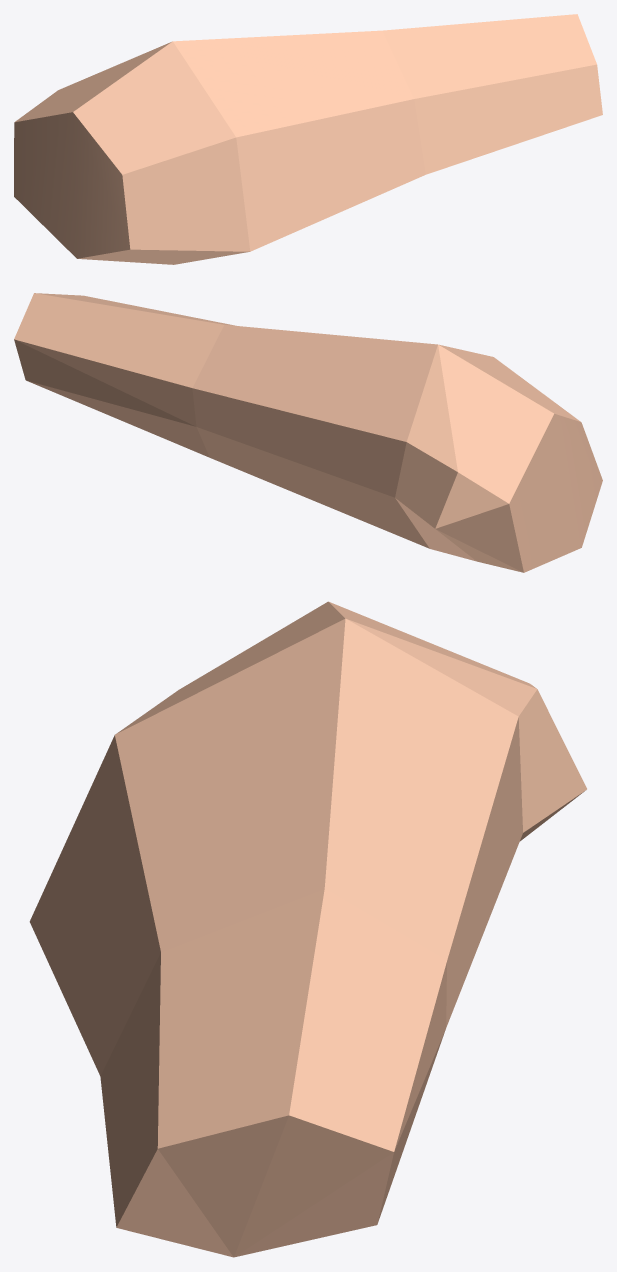
Rendered from Chr_ArmLowerLeft_Male_00_Static.fbx.
The picture shows the model from 3 angles, top to bottom: view 1: azimuth 30°, elevation 25°; view 2: azimuth 150°, elevation 25°; view 3: azimuth 270°, elevation 25°; orthographic projection. The views are drawn at different scales.
Visible parts, largest first — view 1: Chr_ArmLowerLeft_Male_00_Static; view 2: Chr_ArmLowerLeft_Male_00_Static; view 3: Chr_ArmLowerLeft_Male_00_Static.
Boxes of the visible parts, x1,y1,x2,y2 form: Chr_ArmLowerLeft_Male_00_Static: (14,14,602,264); Chr_ArmLowerLeft_Male_00_Static: (14,293,602,572); Chr_ArmLowerLeft_Male_00_Static: (29,601,586,1257).
Bounding box in the file's own units: 0.2896 × 0.1092 × 0.1371.
